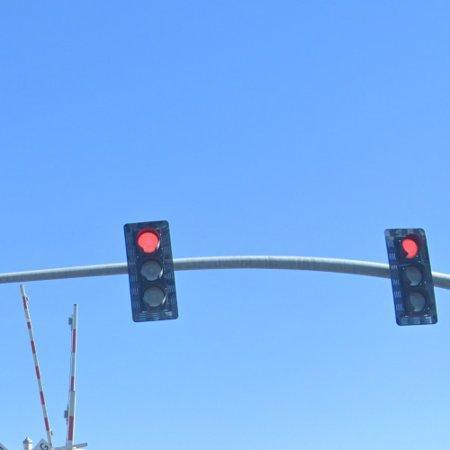traffic lights: (125, 219, 180, 325), (384, 228, 441, 327)
